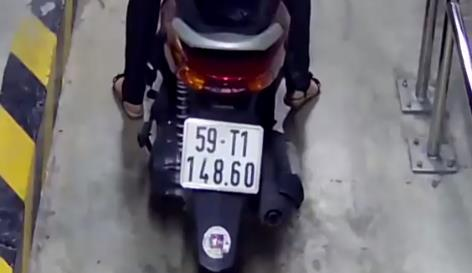lisence: (180, 117, 263, 195)
